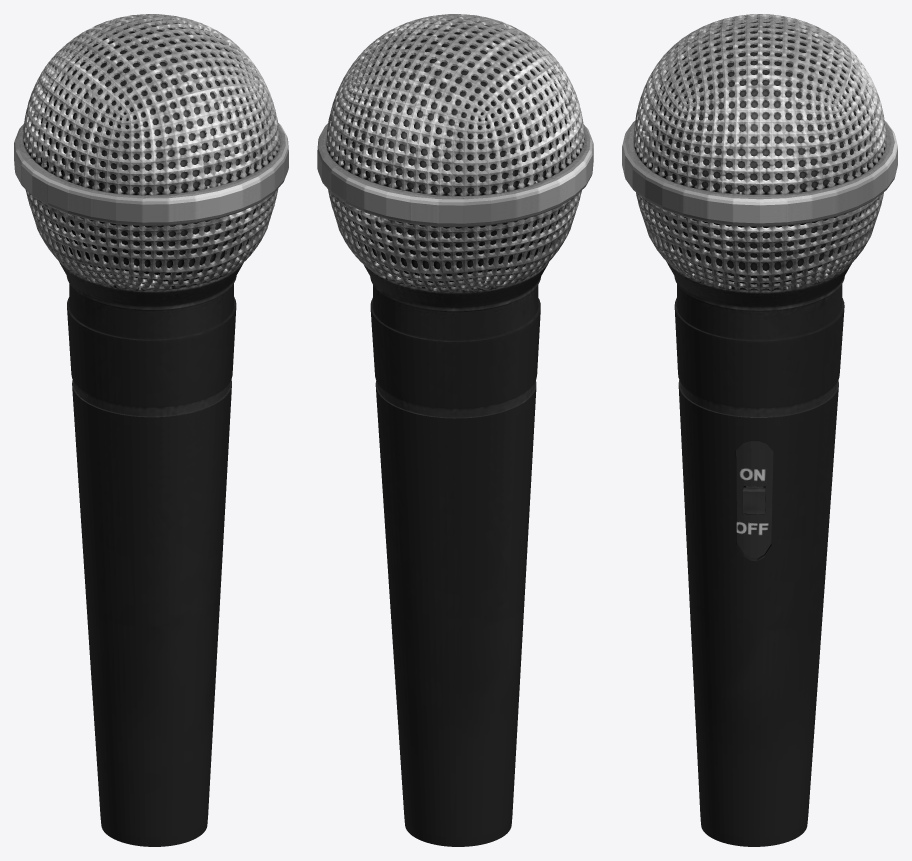
File: microphone .fbx
The picture shows the model from 3 angles, left to right: view 1: azimuth 30°, elevation 25°; view 2: azimuth 150°, elevation 25°; view 3: azimuth 270°, elevation 25°; orthographic projection.
Visible parts, largest first — view 1: Cube.001; view 2: Cube.001; view 3: Cube.001.
Part boxes in pixels (<box>): Cube.001: <box>14,14,288,846</box>; Cube.001: <box>317,14,593,846</box>; Cube.001: <box>622,14,897,846</box>.
Bounding box in the file's own units: 572 × 1824 × 572.
Materials: 1 (1 with a texture image).
